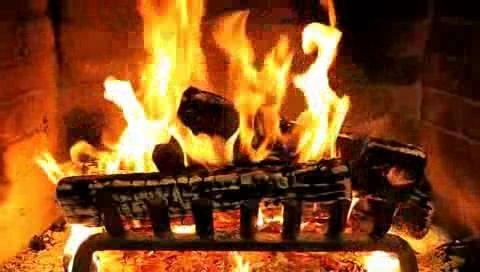fire: (100, 1, 344, 160)
